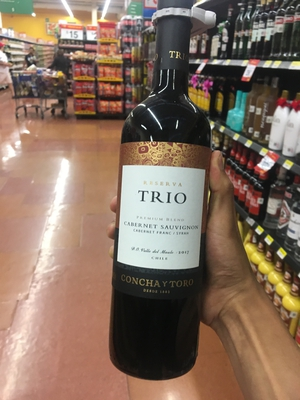trio cabernet sauvignon: (95, 1, 218, 376)
